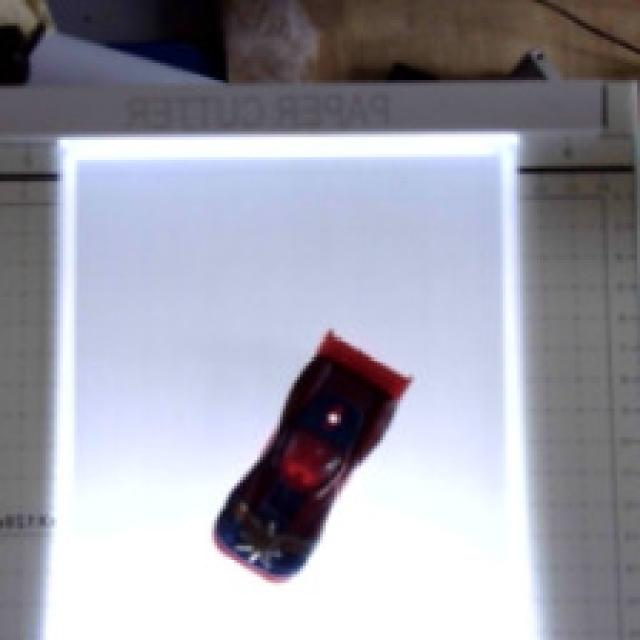Red Car: (160, 313, 457, 590)
